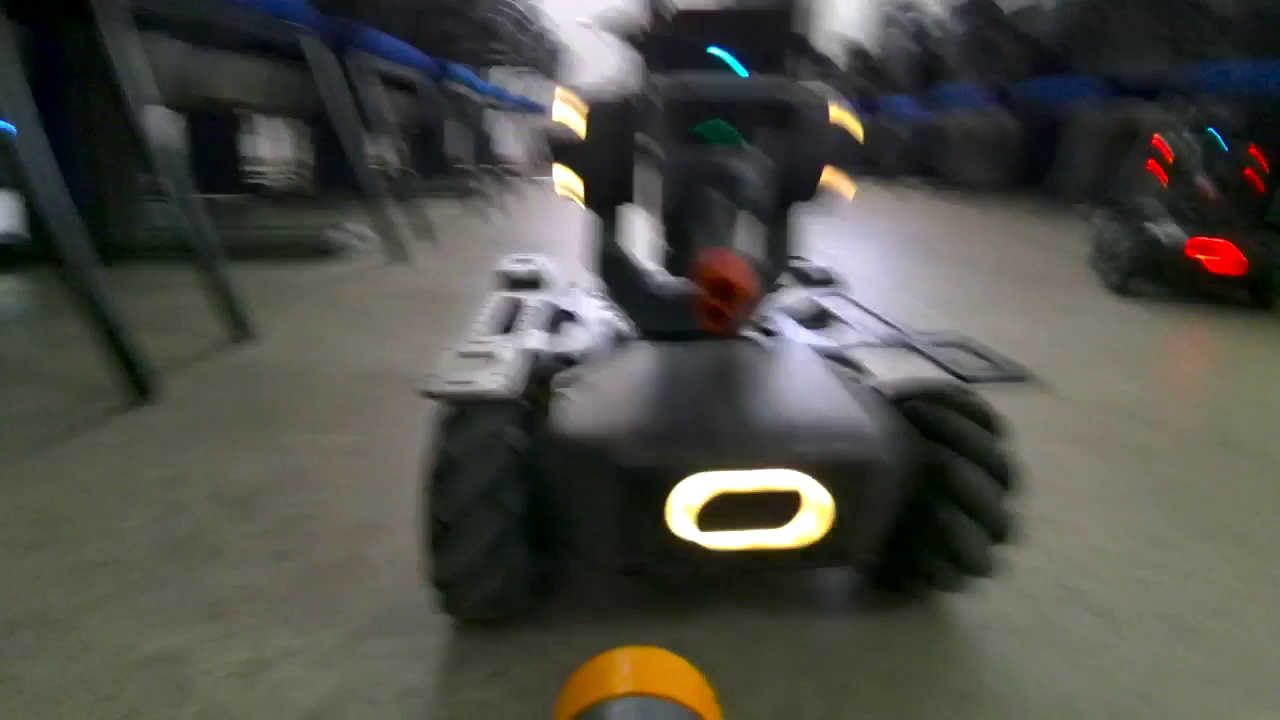robot: (403, 6, 1045, 625)
